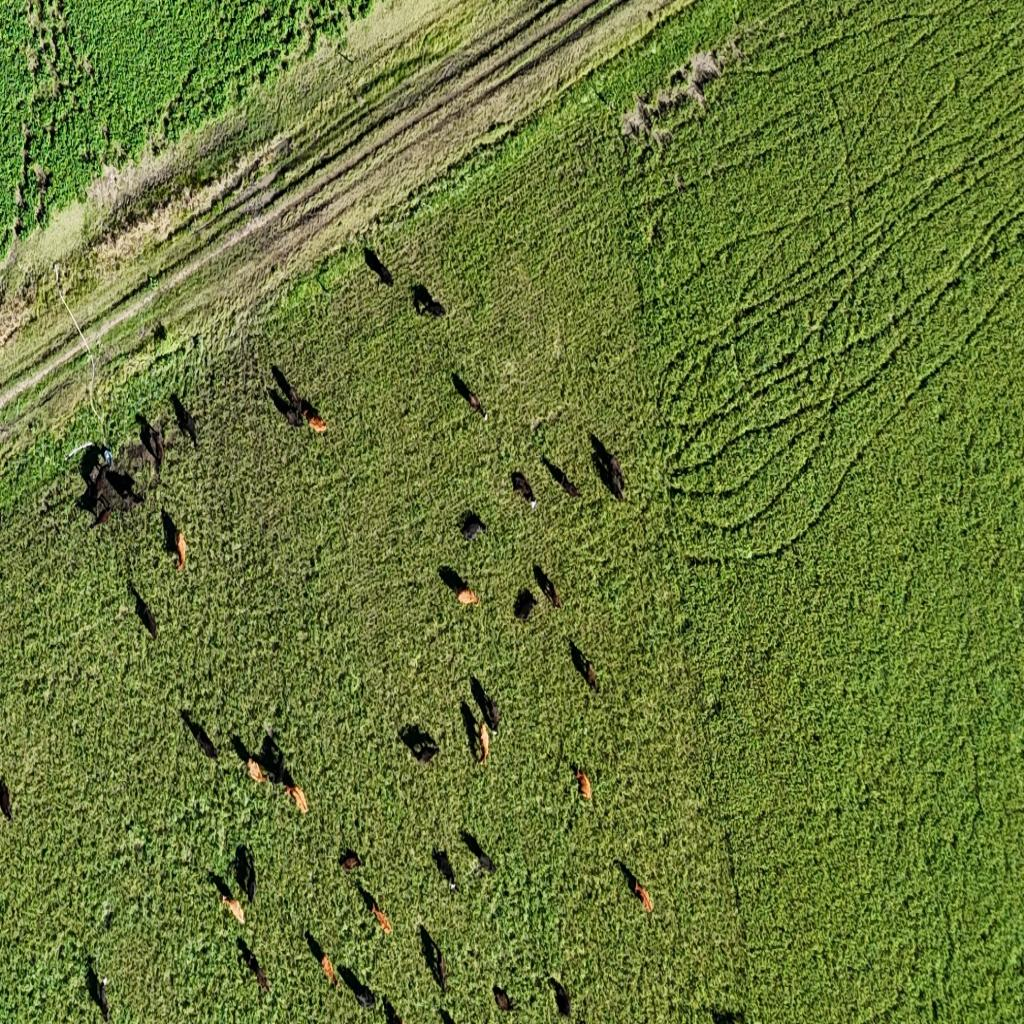cow: (336, 851, 396, 939), (247, 739, 309, 813), (212, 844, 258, 923), (460, 685, 500, 766), (616, 859, 654, 915), (78, 469, 114, 528), (182, 710, 220, 762), (419, 923, 447, 993), (542, 455, 584, 501), (306, 930, 338, 990), (440, 568, 482, 612), (595, 443, 626, 502), (238, 938, 270, 994), (128, 580, 157, 640), (232, 733, 266, 784), (400, 724, 441, 766), (104, 466, 144, 509), (138, 414, 166, 475), (86, 959, 112, 1024), (338, 964, 374, 1009), (462, 829, 496, 876), (171, 393, 200, 447), (452, 373, 486, 419), (269, 385, 304, 429), (568, 637, 597, 690), (654, 79, 692, 119), (258, 733, 286, 787), (163, 507, 186, 572), (363, 244, 394, 288), (534, 562, 562, 610), (412, 282, 446, 318), (80, 445, 106, 489), (511, 470, 538, 512), (589, 431, 615, 473), (298, 397, 327, 434), (433, 845, 456, 889), (548, 977, 572, 1019), (460, 510, 488, 544), (513, 587, 538, 625), (682, 75, 707, 108), (493, 984, 519, 1012), (572, 766, 592, 802), (0, 776, 14, 823), (339, 848, 363, 874), (384, 996, 404, 1024), (670, 68, 690, 93), (712, 1009, 745, 1024), (40, 494, 58, 518), (153, 322, 168, 344), (439, 1006, 456, 1024), (102, 909, 114, 933)
